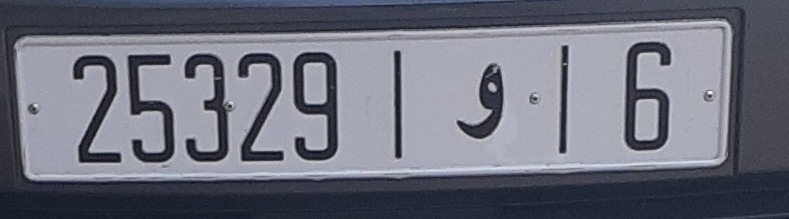2: (66, 47, 123, 171), (234, 47, 286, 169)
3: (179, 48, 232, 168)
5: (125, 45, 178, 171)
6: (619, 36, 676, 154)
9: (286, 44, 347, 169)
waw: (449, 54, 511, 148)
